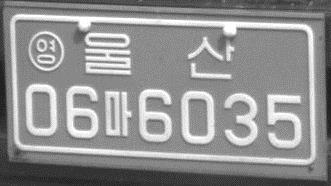0: (179, 89, 217, 145), (24, 81, 58, 138)
3: (222, 90, 259, 147)
5: (264, 92, 303, 149)
6: (136, 86, 174, 144), (64, 83, 100, 140)
마: (103, 88, 133, 138)
영: (26, 30, 66, 73)
울산_D: (82, 29, 235, 81)
